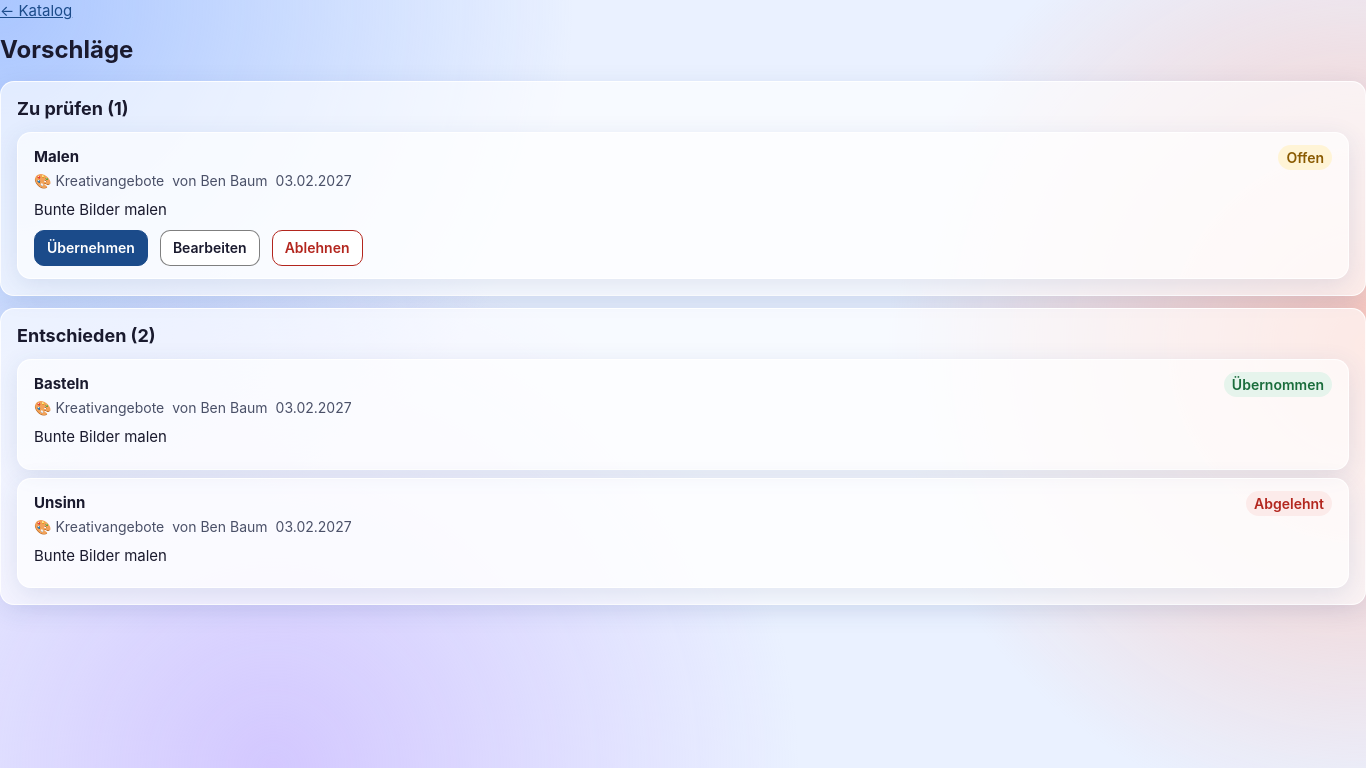
Test: Vorschläge › Korrektur ohne Namen wird nicht gespeichert
This screenshot has width=1366, height=768.
Step 1. Click the button with aria-label "Vorschlag „Malen“ bearbeiten" → [210, 248], box [160, 230, 260, 266]
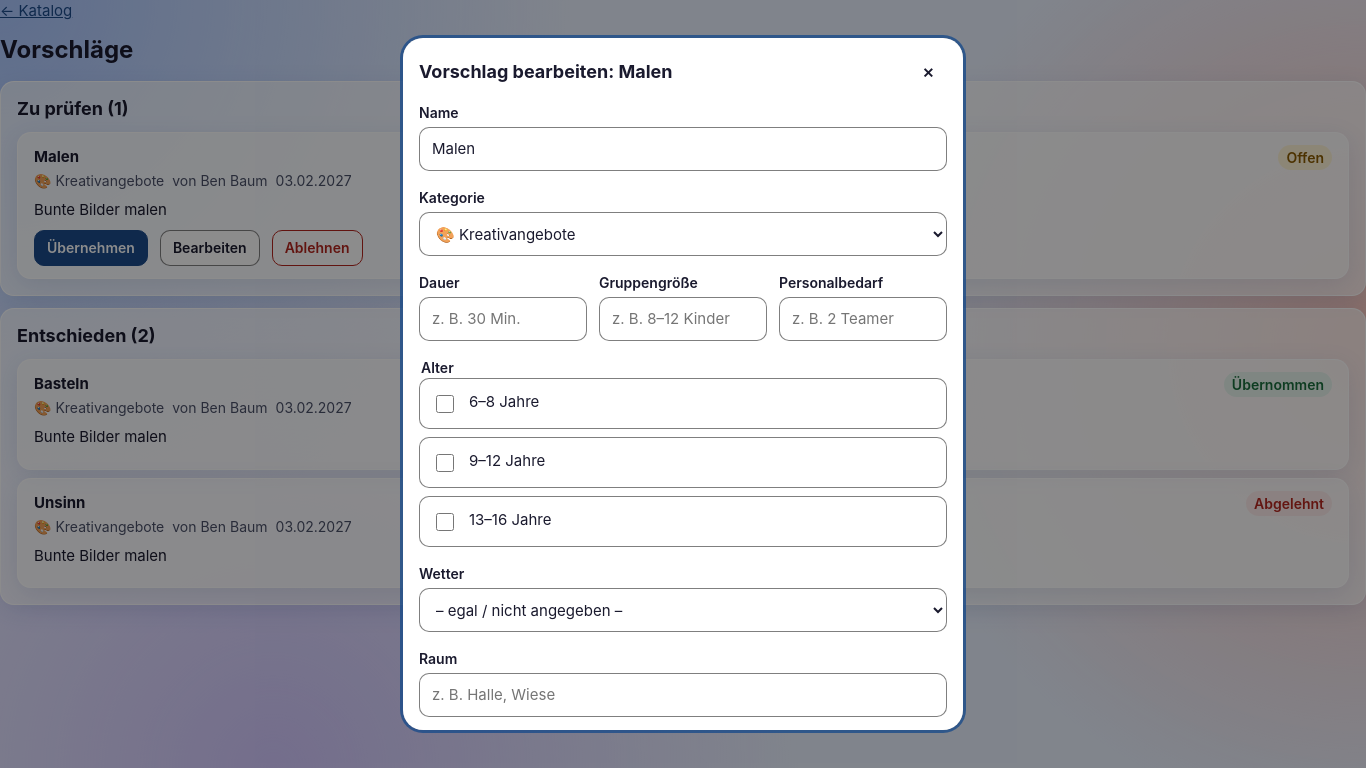
Step 2. Clear the field labelled "Name" → [683, 149], box [419, 127, 947, 171]
(page scrolled)
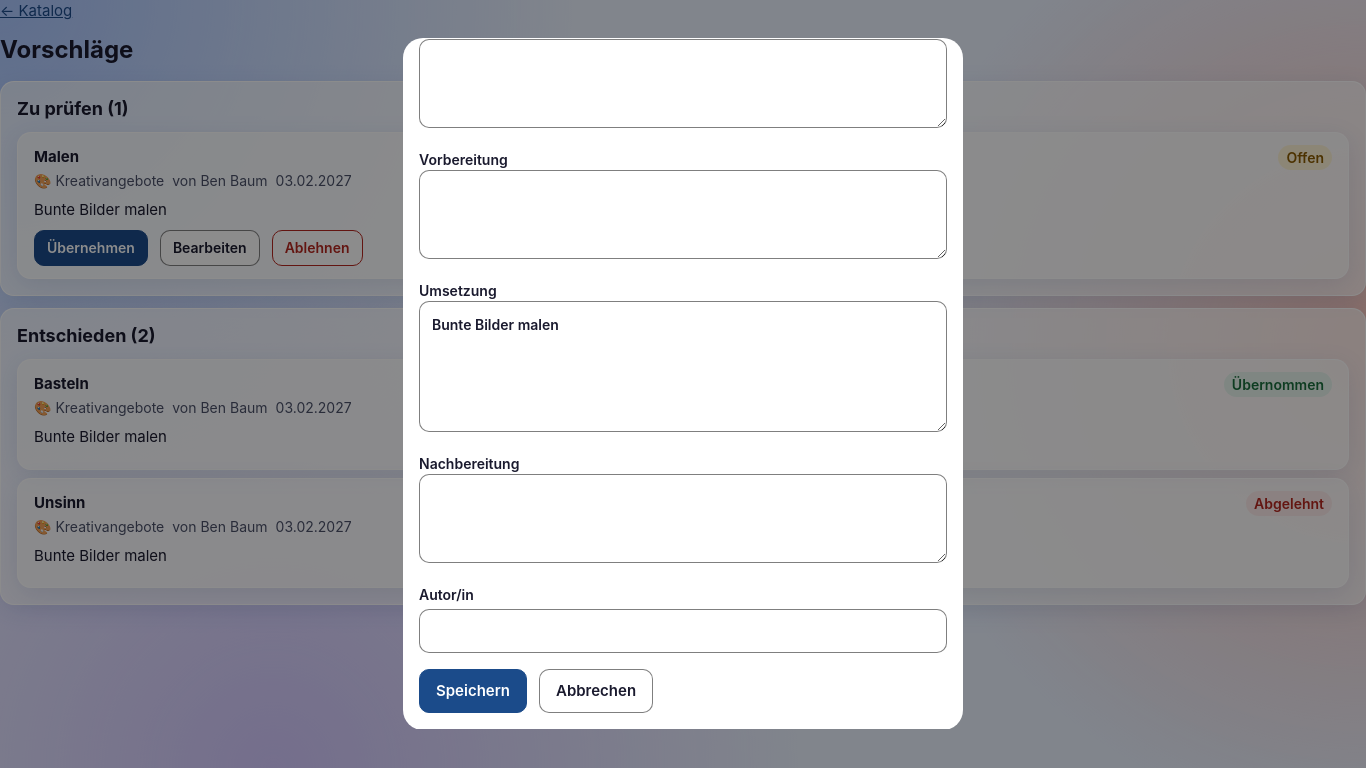
Step 3. Click the button "Speichern" → [473, 691], box [419, 669, 527, 713]
(page scrolled)
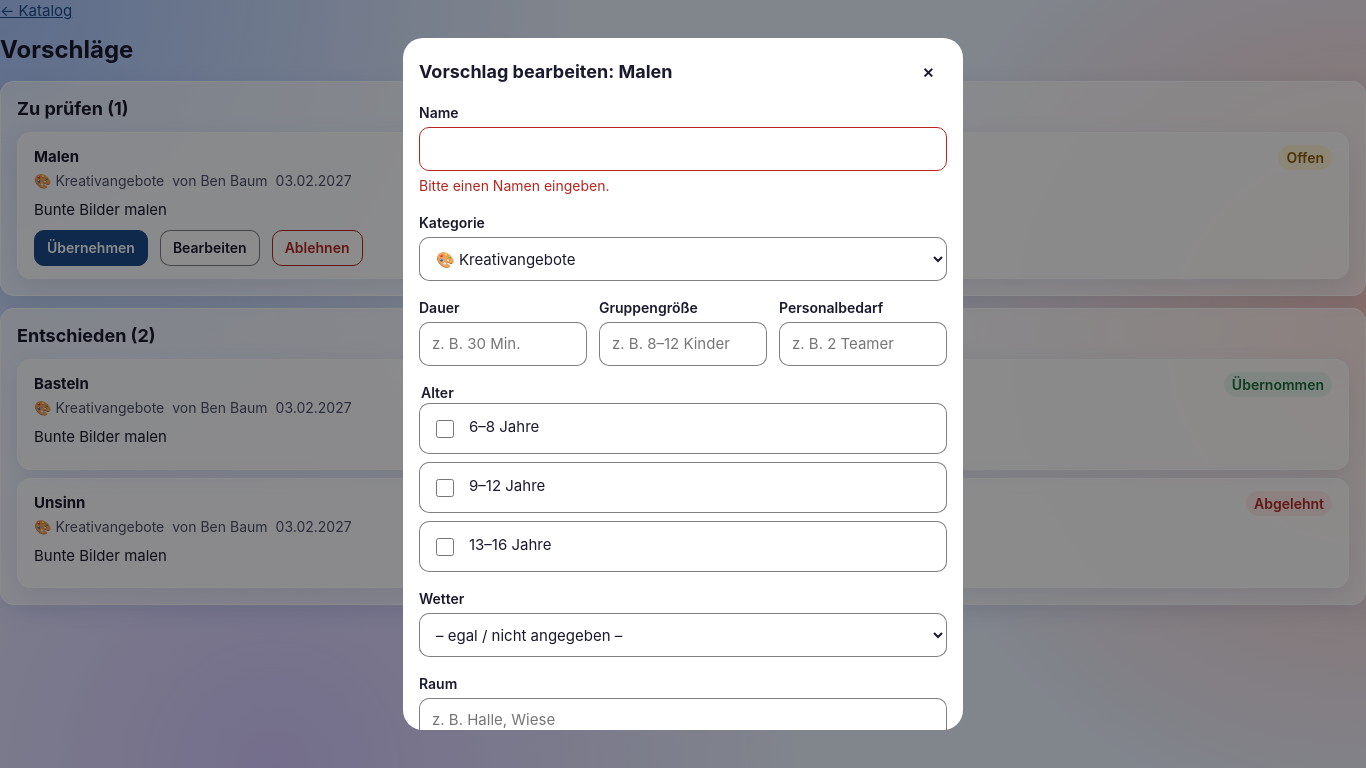
Expected: the text "Bitte einen Namen eingeben." is shown, [419, 177, 610, 194]
